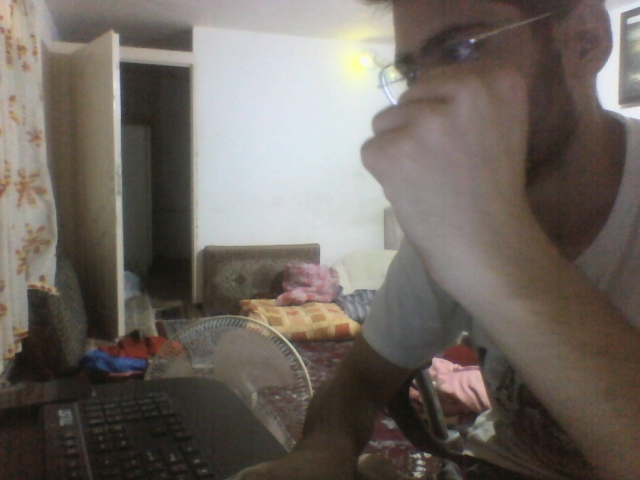attack: (358, 59, 529, 277)
sorat: (385, 1, 615, 178)
